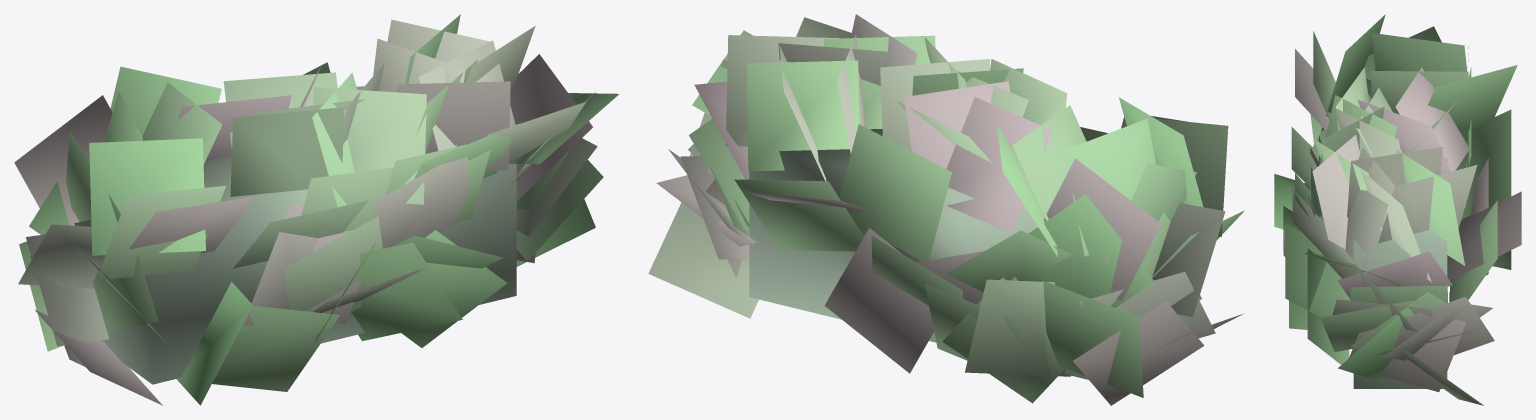
Rendered from Hedge.fbx.
3 views of the same model, side by side, from view 1: azimuth 30°, elevation 25°; view 2: azimuth 150°, elevation 25°; view 3: azimuth 270°, elevation 25° (orthographic). The views are drawn at different scales.
Visible parts, largest first — view 1: Hedge_A_LOD0; view 2: Hedge_A_LOD0; view 3: Hedge_A_LOD0.
Part boxes in pixels (left/top/right/bottom): Hedge_A_LOD0: left=14, top=14, right=618, bottom=405; Hedge_A_LOD0: left=648, top=14, right=1244, bottom=405; Hedge_A_LOD0: left=1274, top=14, right=1521, bottom=405.
Size of what is drawn, in the model's own units: 4.04 by 2.02 by 1.9.
